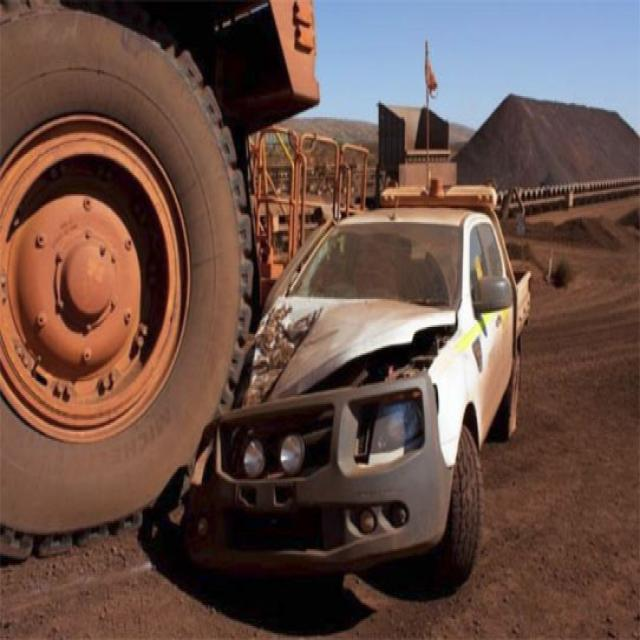light_vehicle: (214, 157, 572, 593)
